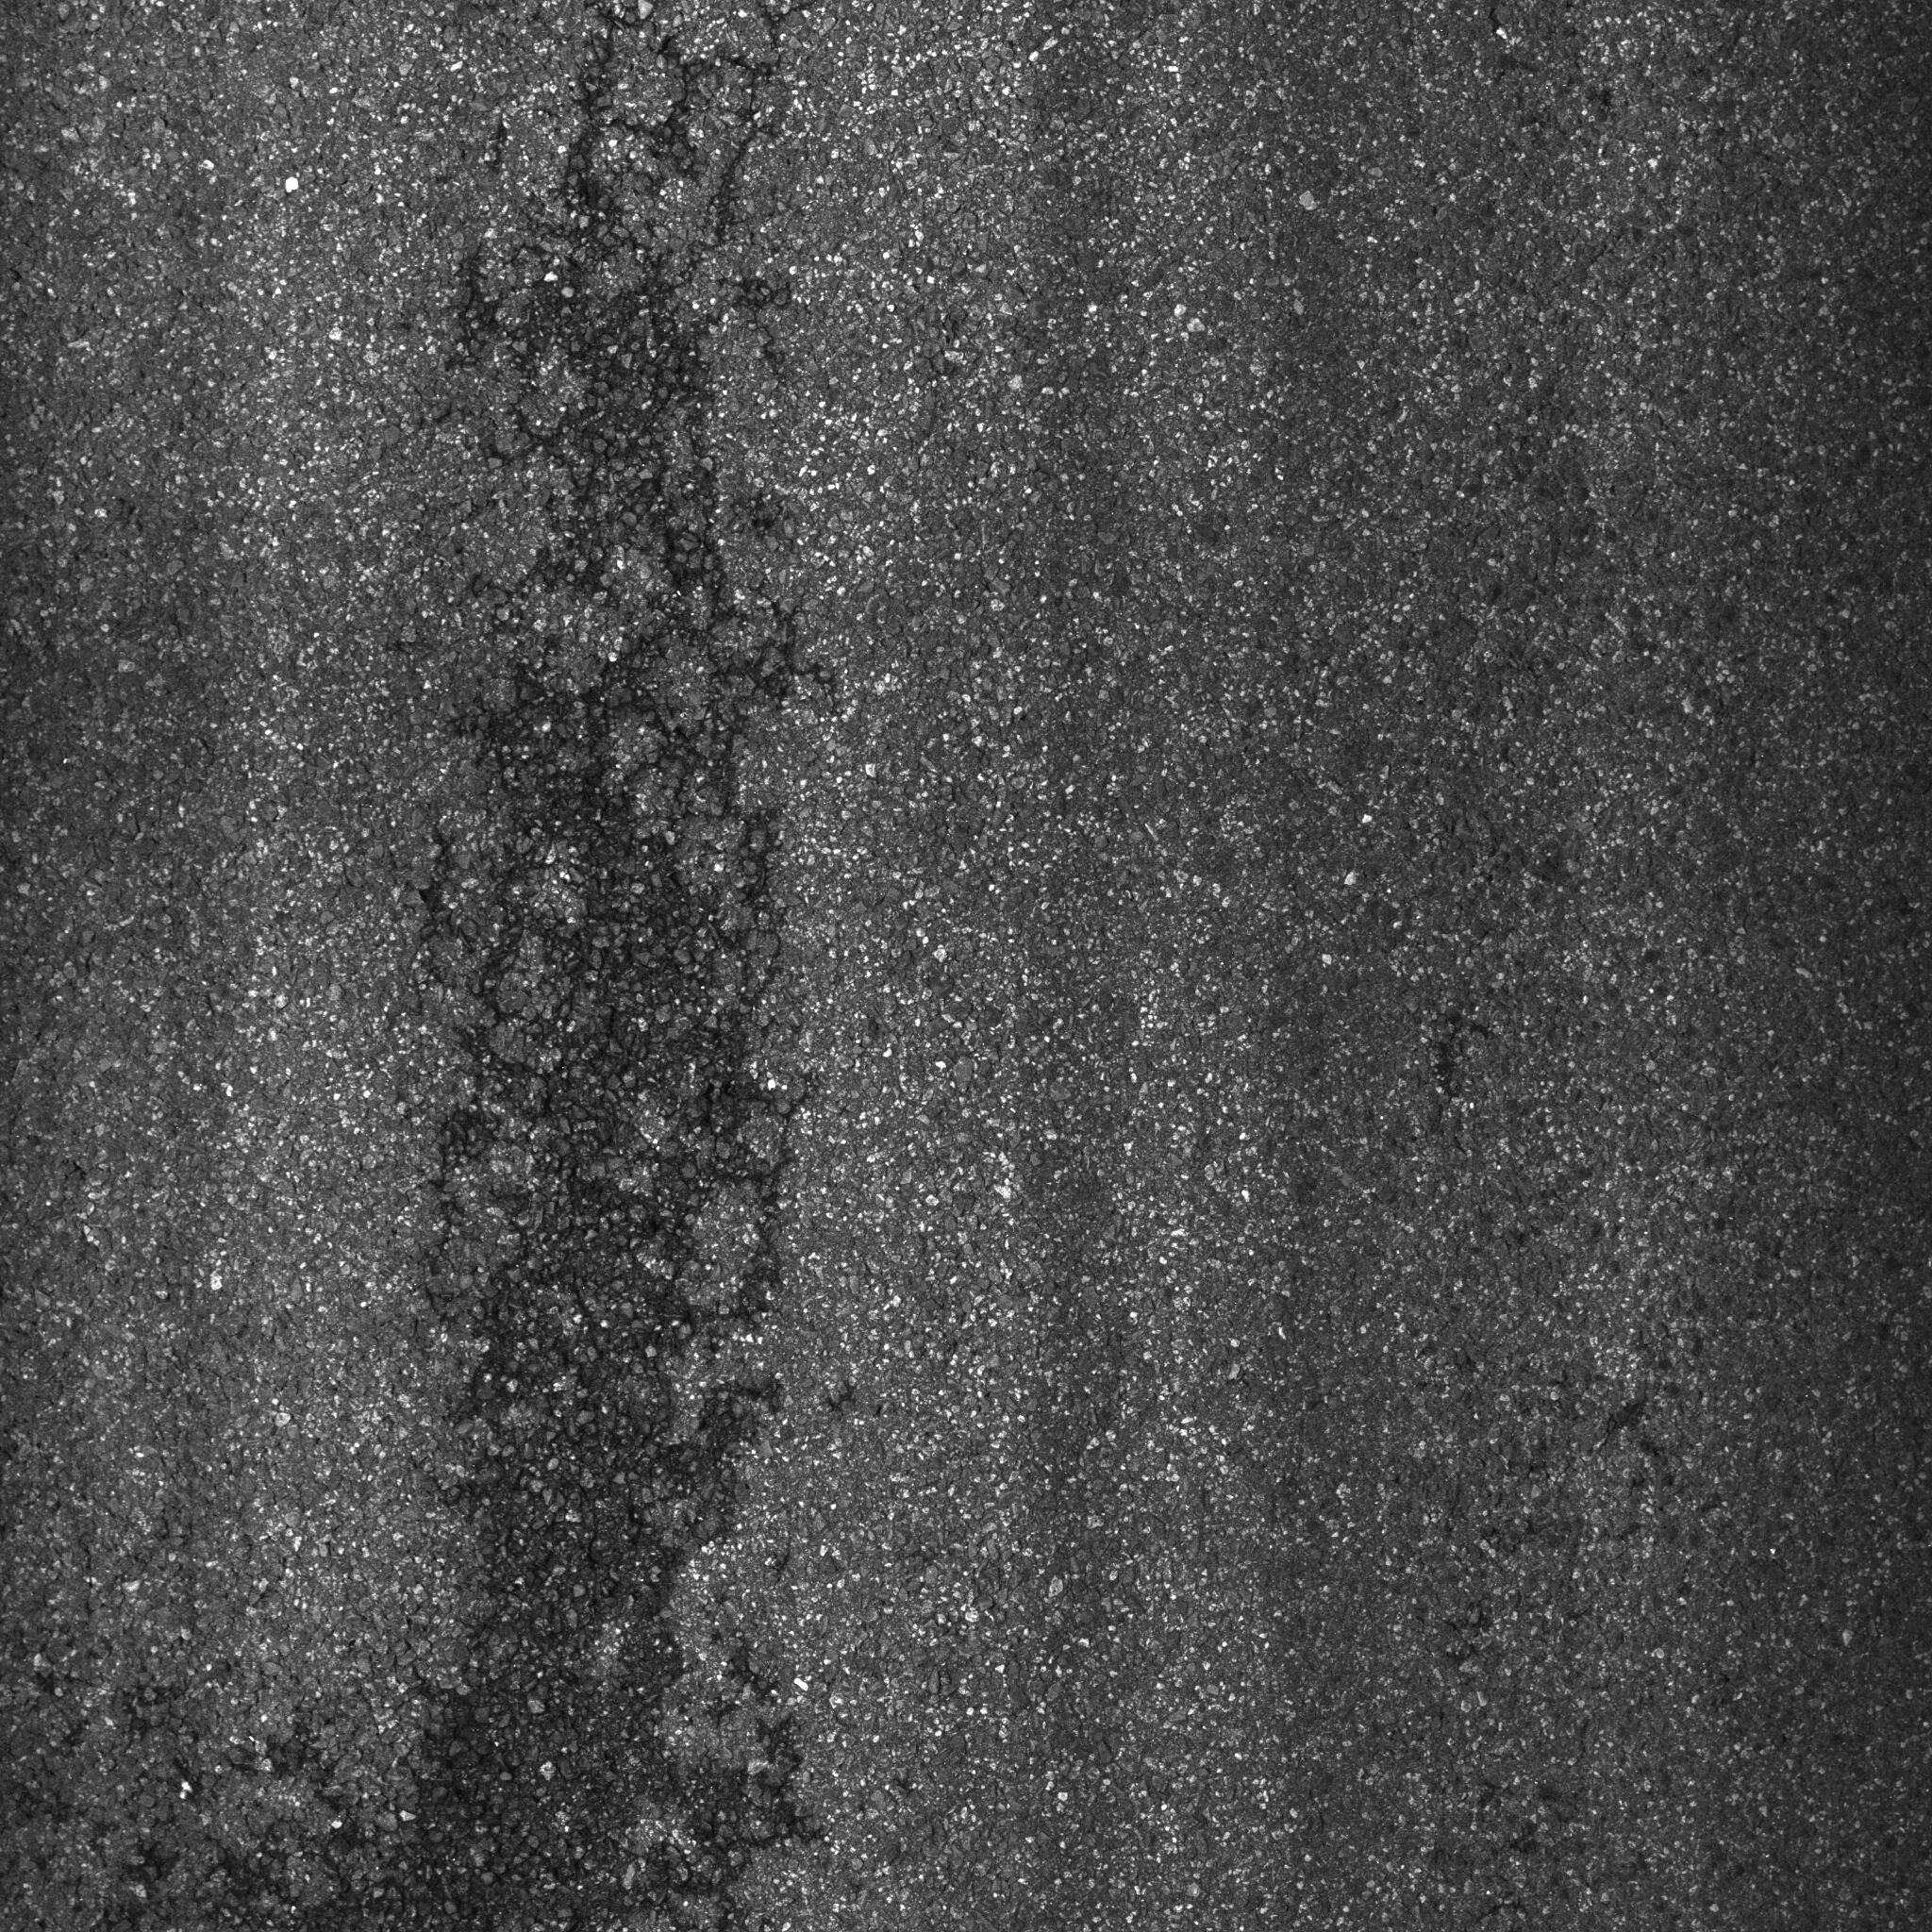alligator: (304, 4, 897, 1930)
